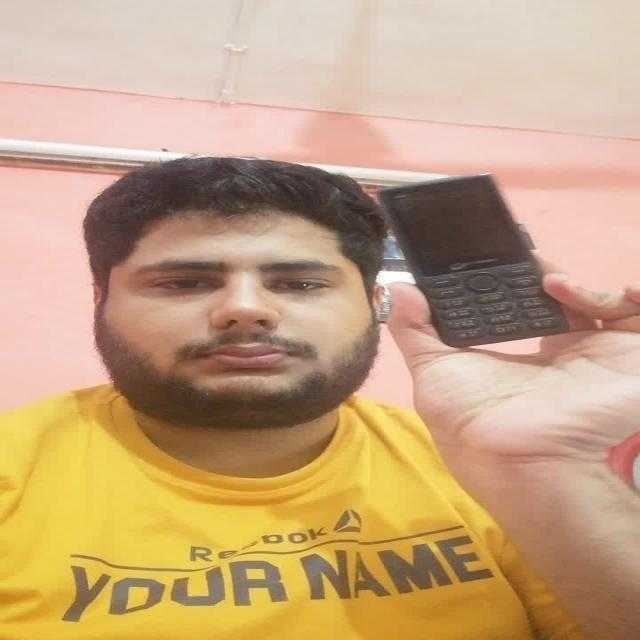phone: (378, 169, 572, 351)
